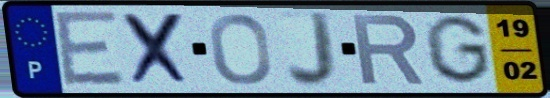E: (51, 9, 129, 90)
G: (421, 12, 494, 86)
J: (284, 8, 339, 90)
O: (206, 12, 275, 87)
R: (348, 12, 428, 87)
X: (119, 11, 195, 88)
